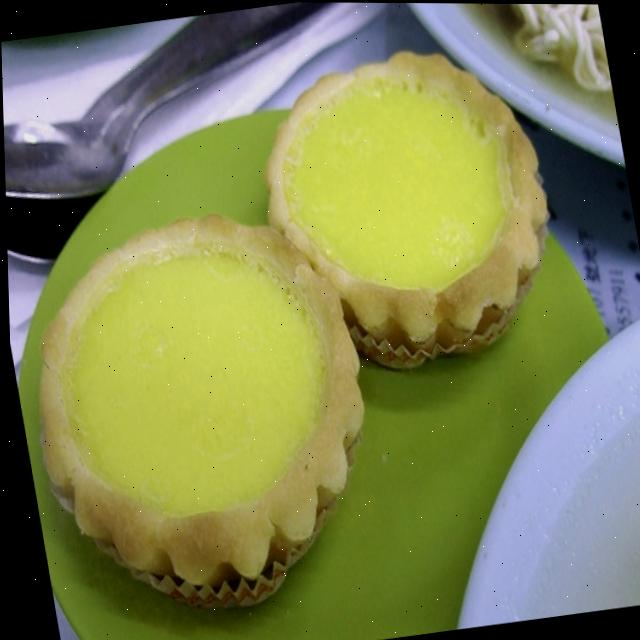炸货点心: (0, 13, 628, 640)
蛋糕甜品: (0, 13, 628, 640)
